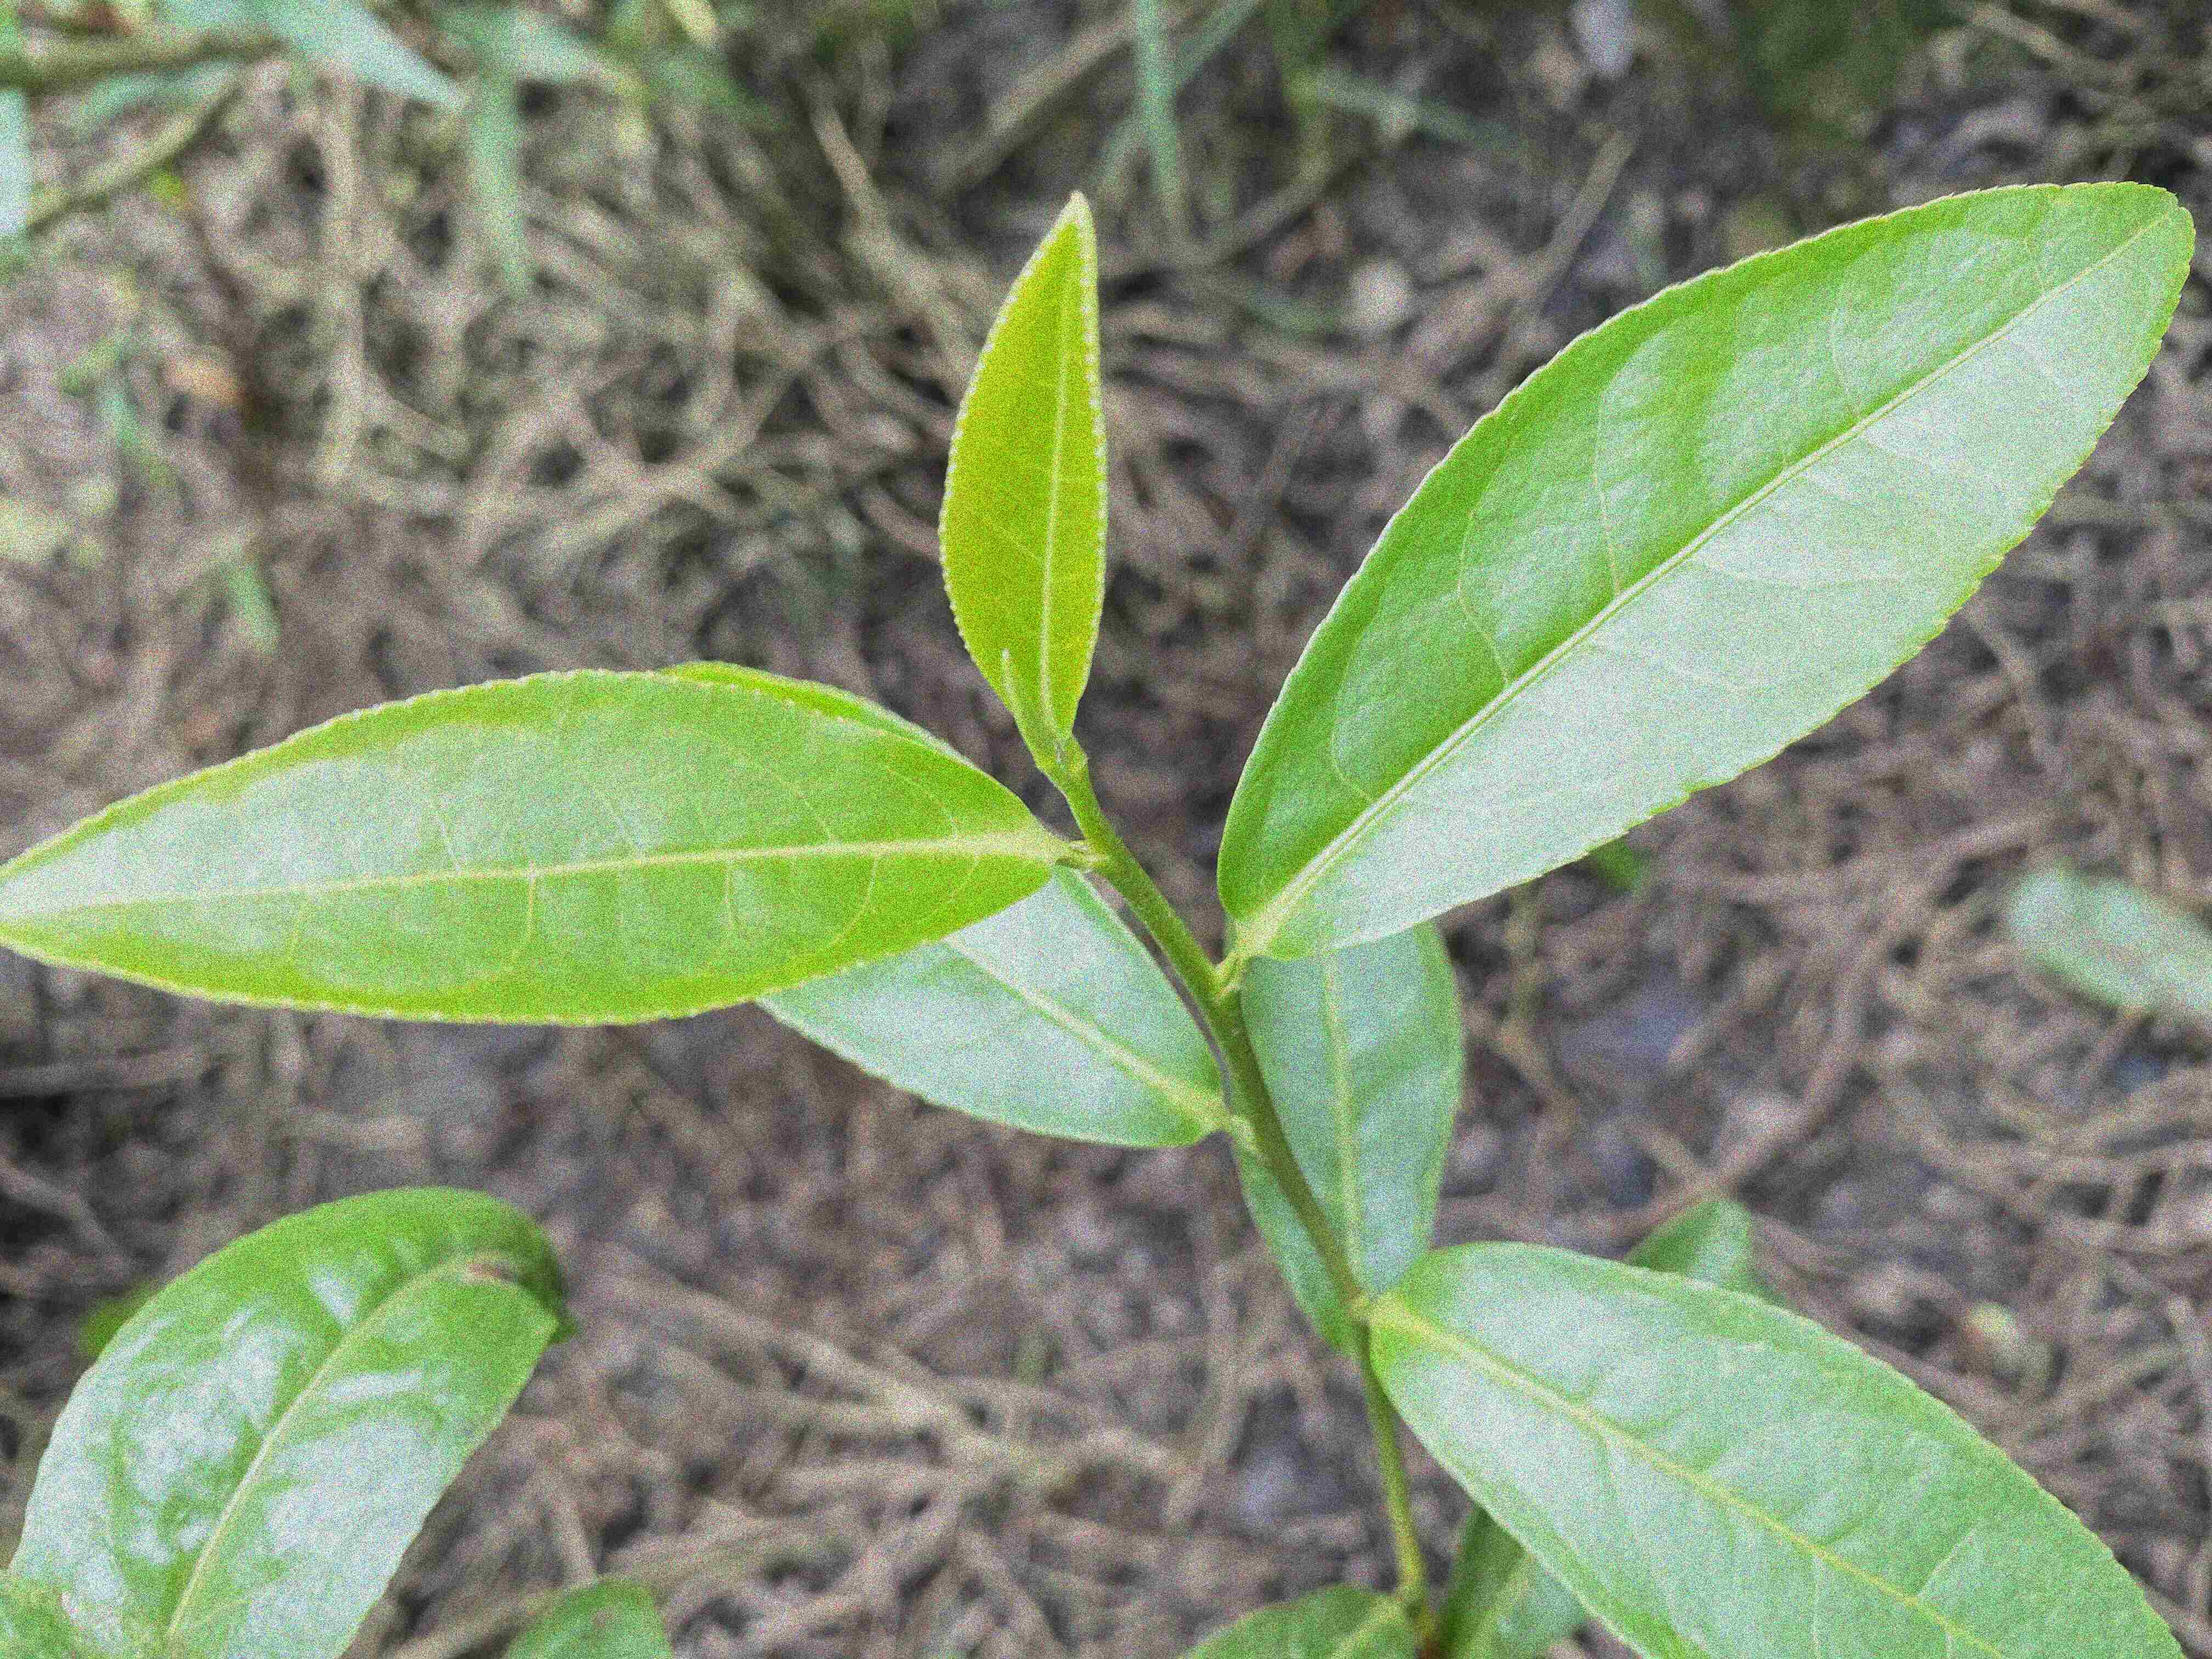healthy: (1212, 181, 2200, 965), (2, 662, 1057, 1030), (1362, 1236, 2188, 1656), (756, 875, 1228, 1152), (937, 192, 1113, 748)
tanju_low: (3, 1180, 561, 1656)
